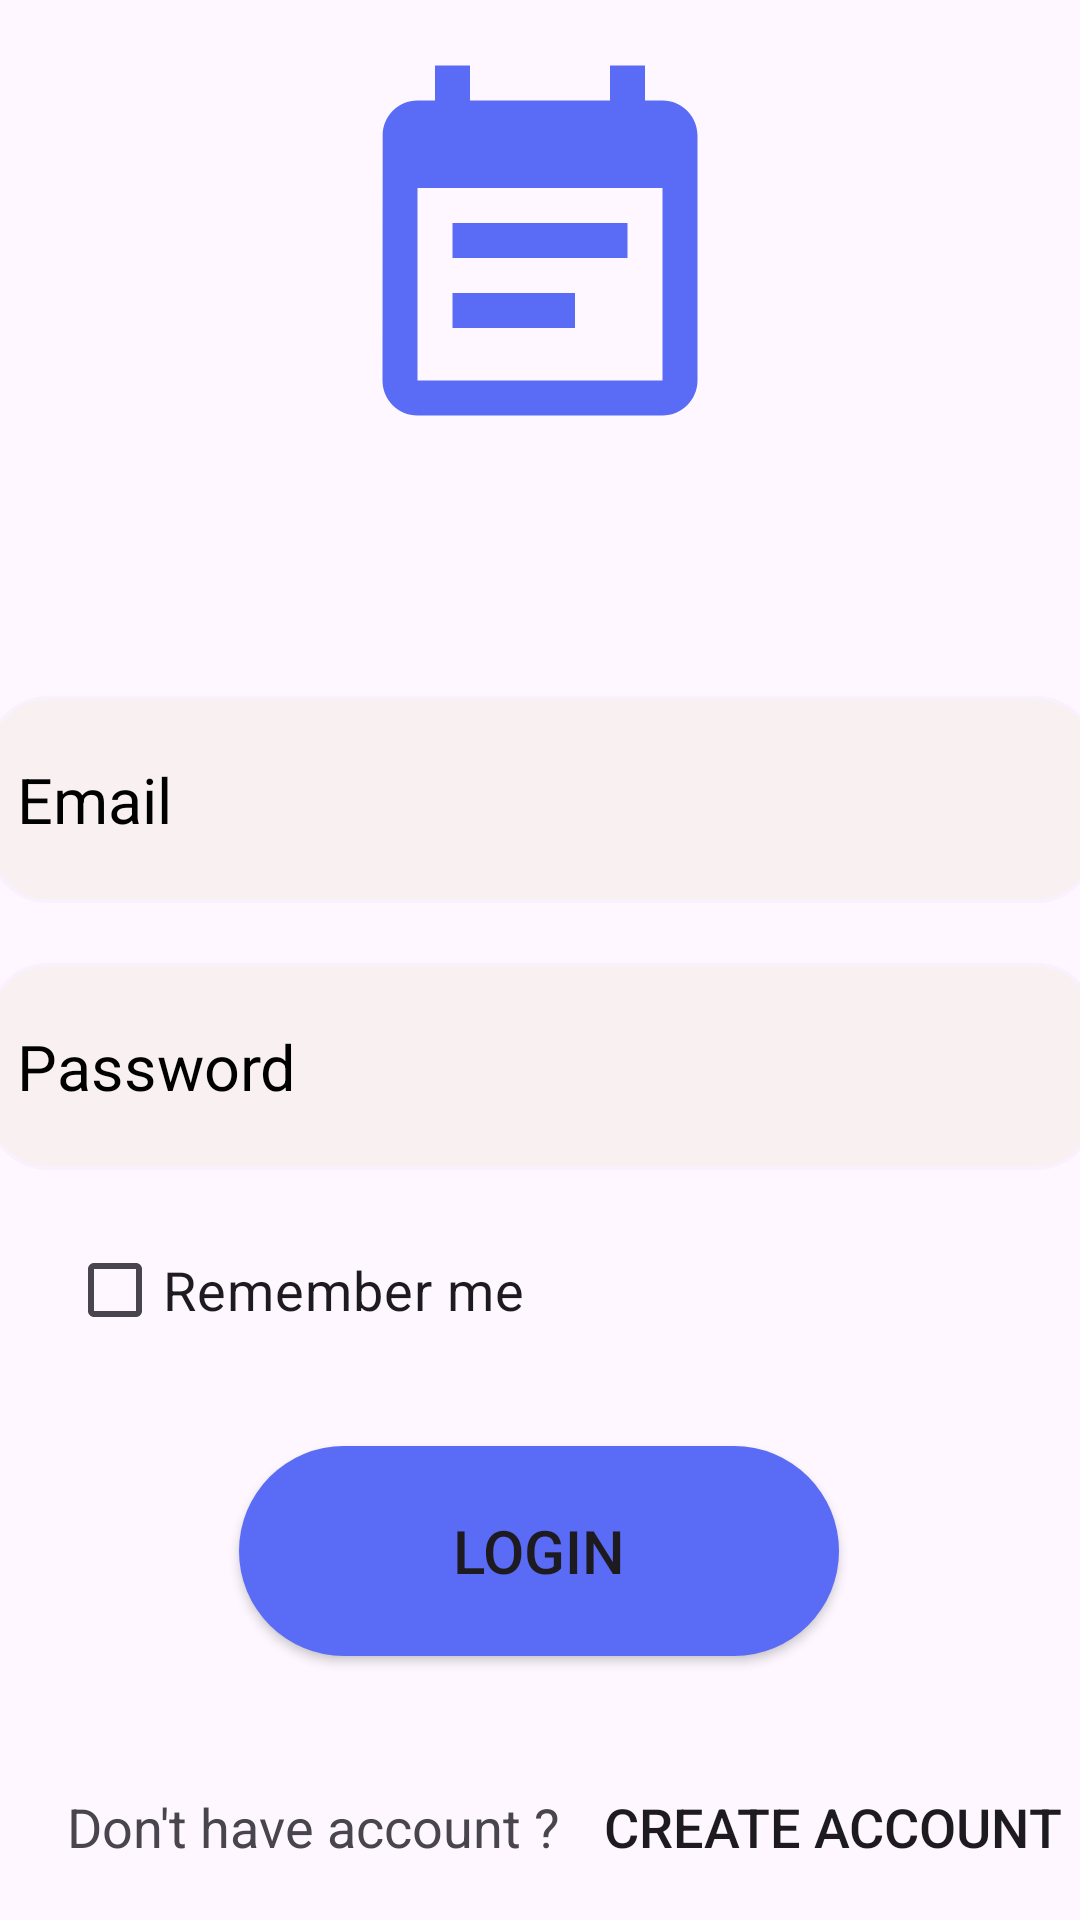

Named icons in this screenshot (1080 × 1920) and their bounding boxes, (left=x1, top=y1, right=x2, bottom=y2):
notes: (left=382, top=65, right=698, bottom=416)
